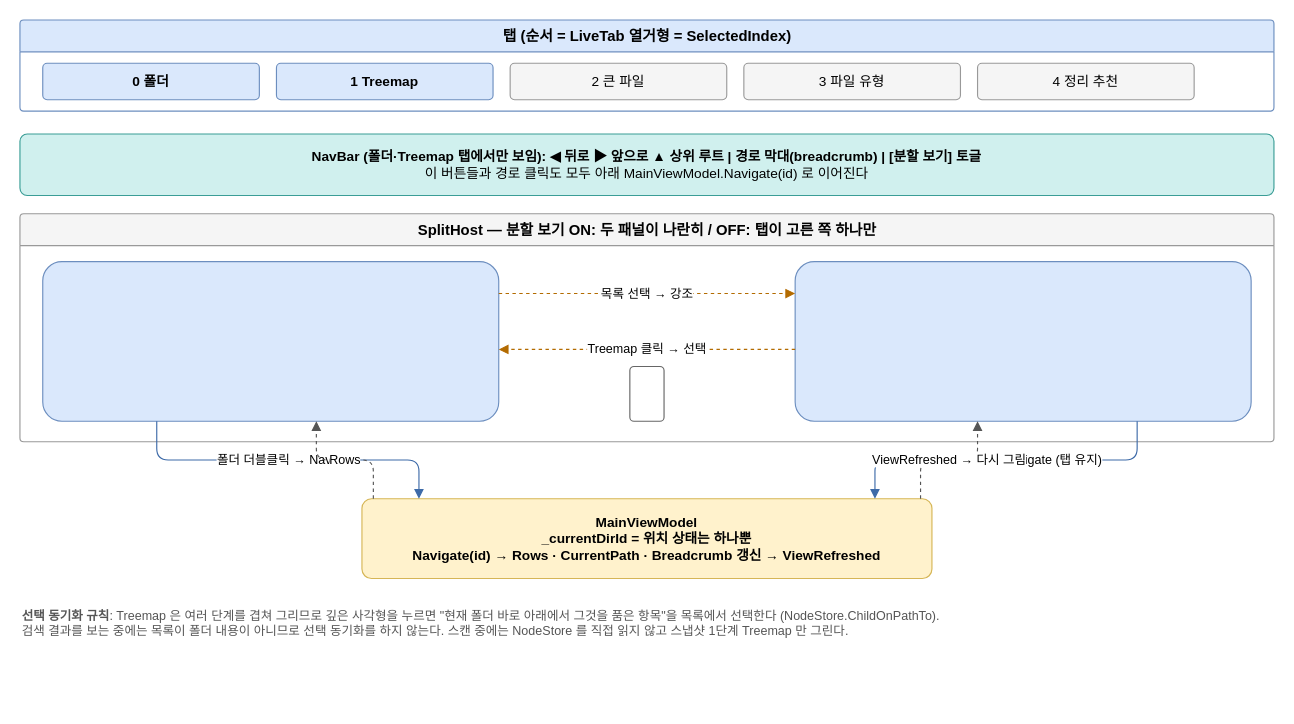
Image size: 1294x724. Some labels were removed from this diagram. The shapes that lost their labels are listed below. From the top down, each one's centre as x and y in pixels, then its label:
At [270,340]: "FolderPanel ListView (Rows) · 다중 선택 · 삭제 정렬은 ViewModel 이 담당 (바인딩 유지)".
At [1022,340]: "TreemapPanel TreemapControl (squarified · 최대 4단계 · 카테고리 7색) 선택 강조 테두리".
At [646,393]: "Grid Splitter".
